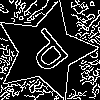P: (21, 26, 78, 82)
